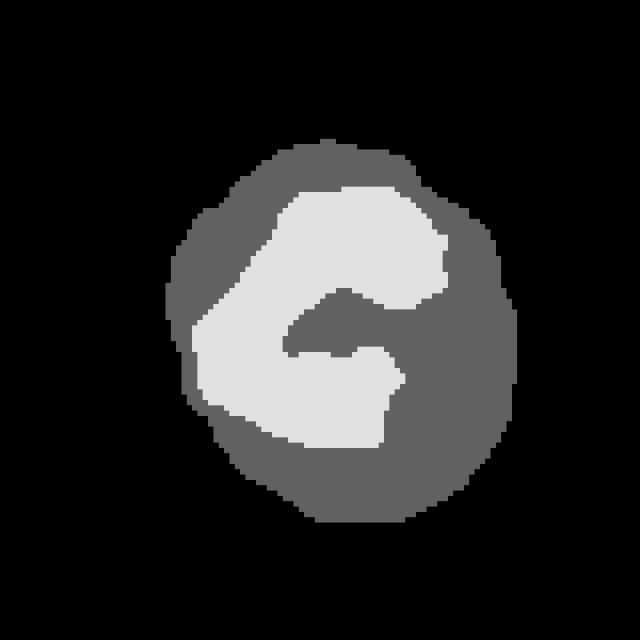WBC: (149, 123, 539, 544)
